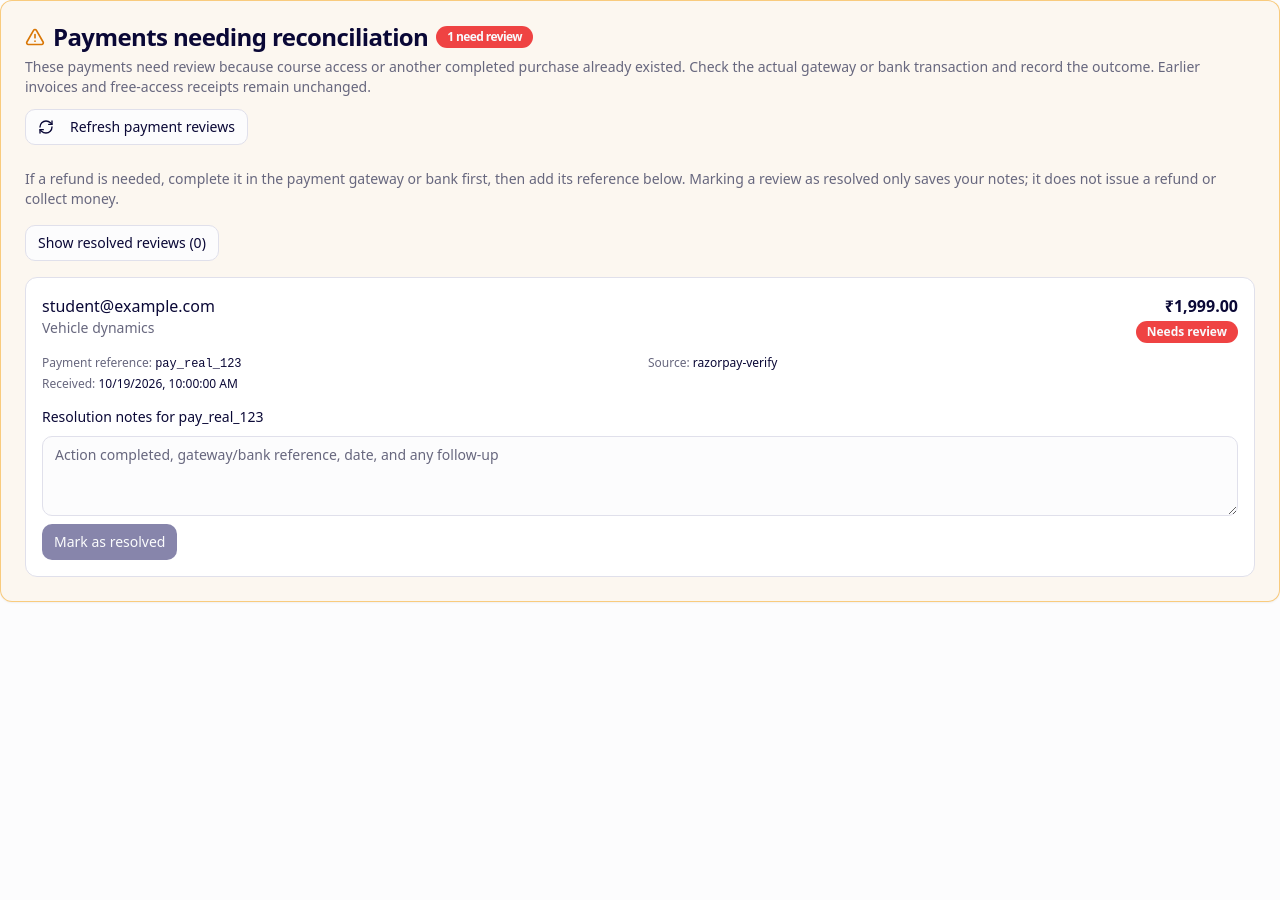
late sponsorship payment reviews › retains notes and the outstanding review when the server rejects resolution
The width and height of the screenshot is (1280, 900).
Step 1. Replace the text in the text box labelled "Resolution notes for pay_real_123" with "Checked payment and refunded rfnd_123" → (640, 476), box [42,436,1238,516]
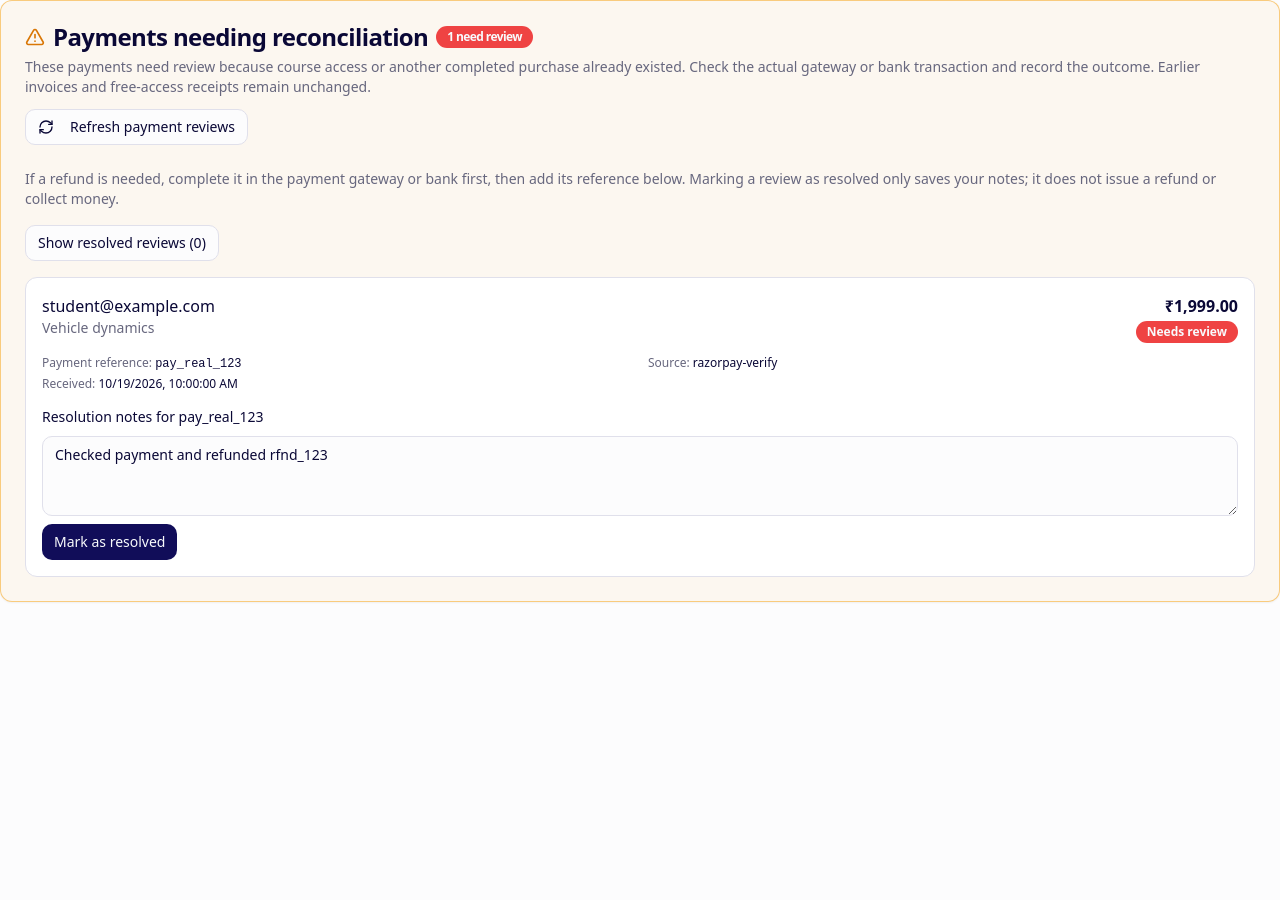
Step 2. Click the button "Mark as resolved" → (110, 542), box [42,524,178,560]
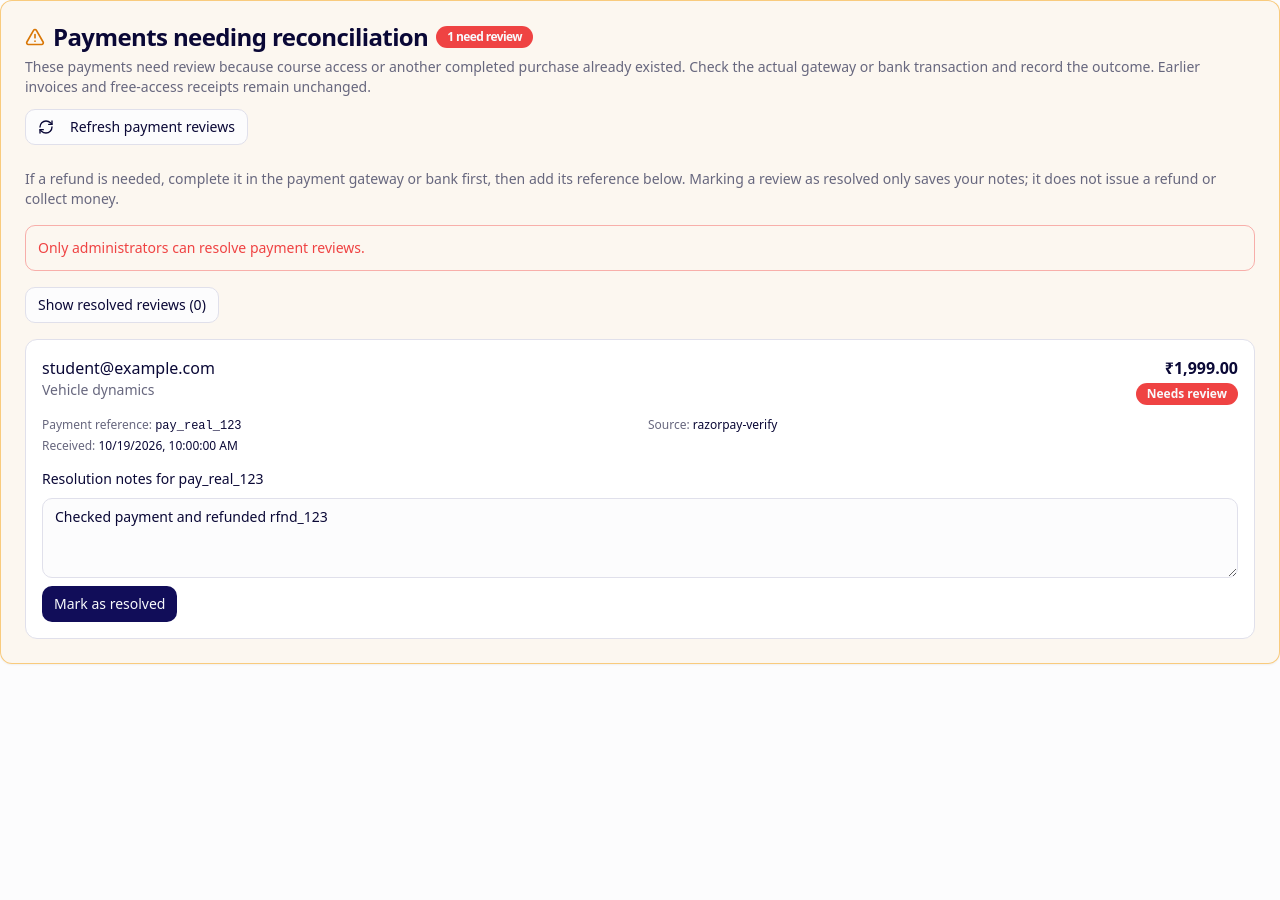
Expected: the text "Needs review" is shown, [1136,383,1238,405]
Now the message shows "Only administrators", box [38,238,365,257]
